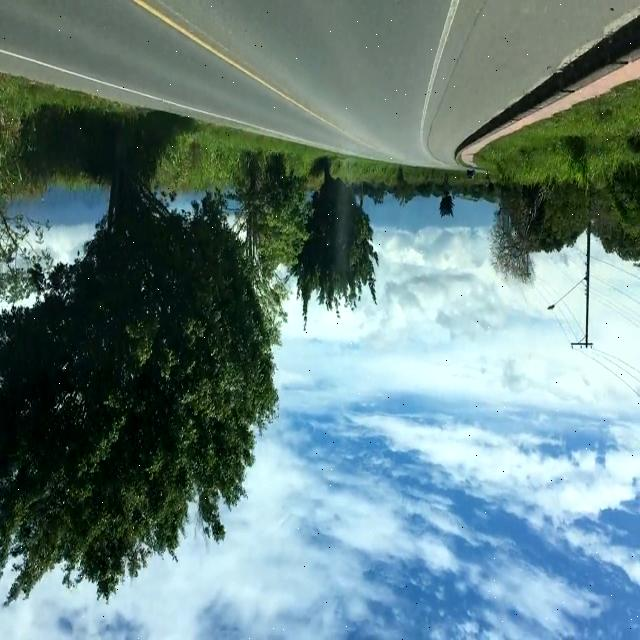lane: (132, 0, 340, 131), (0, 49, 209, 113), (420, 0, 460, 149)
road: (0, 2, 640, 169)
